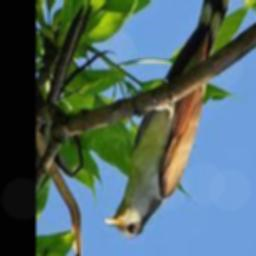Cuckoo: (103, 0, 241, 237)
